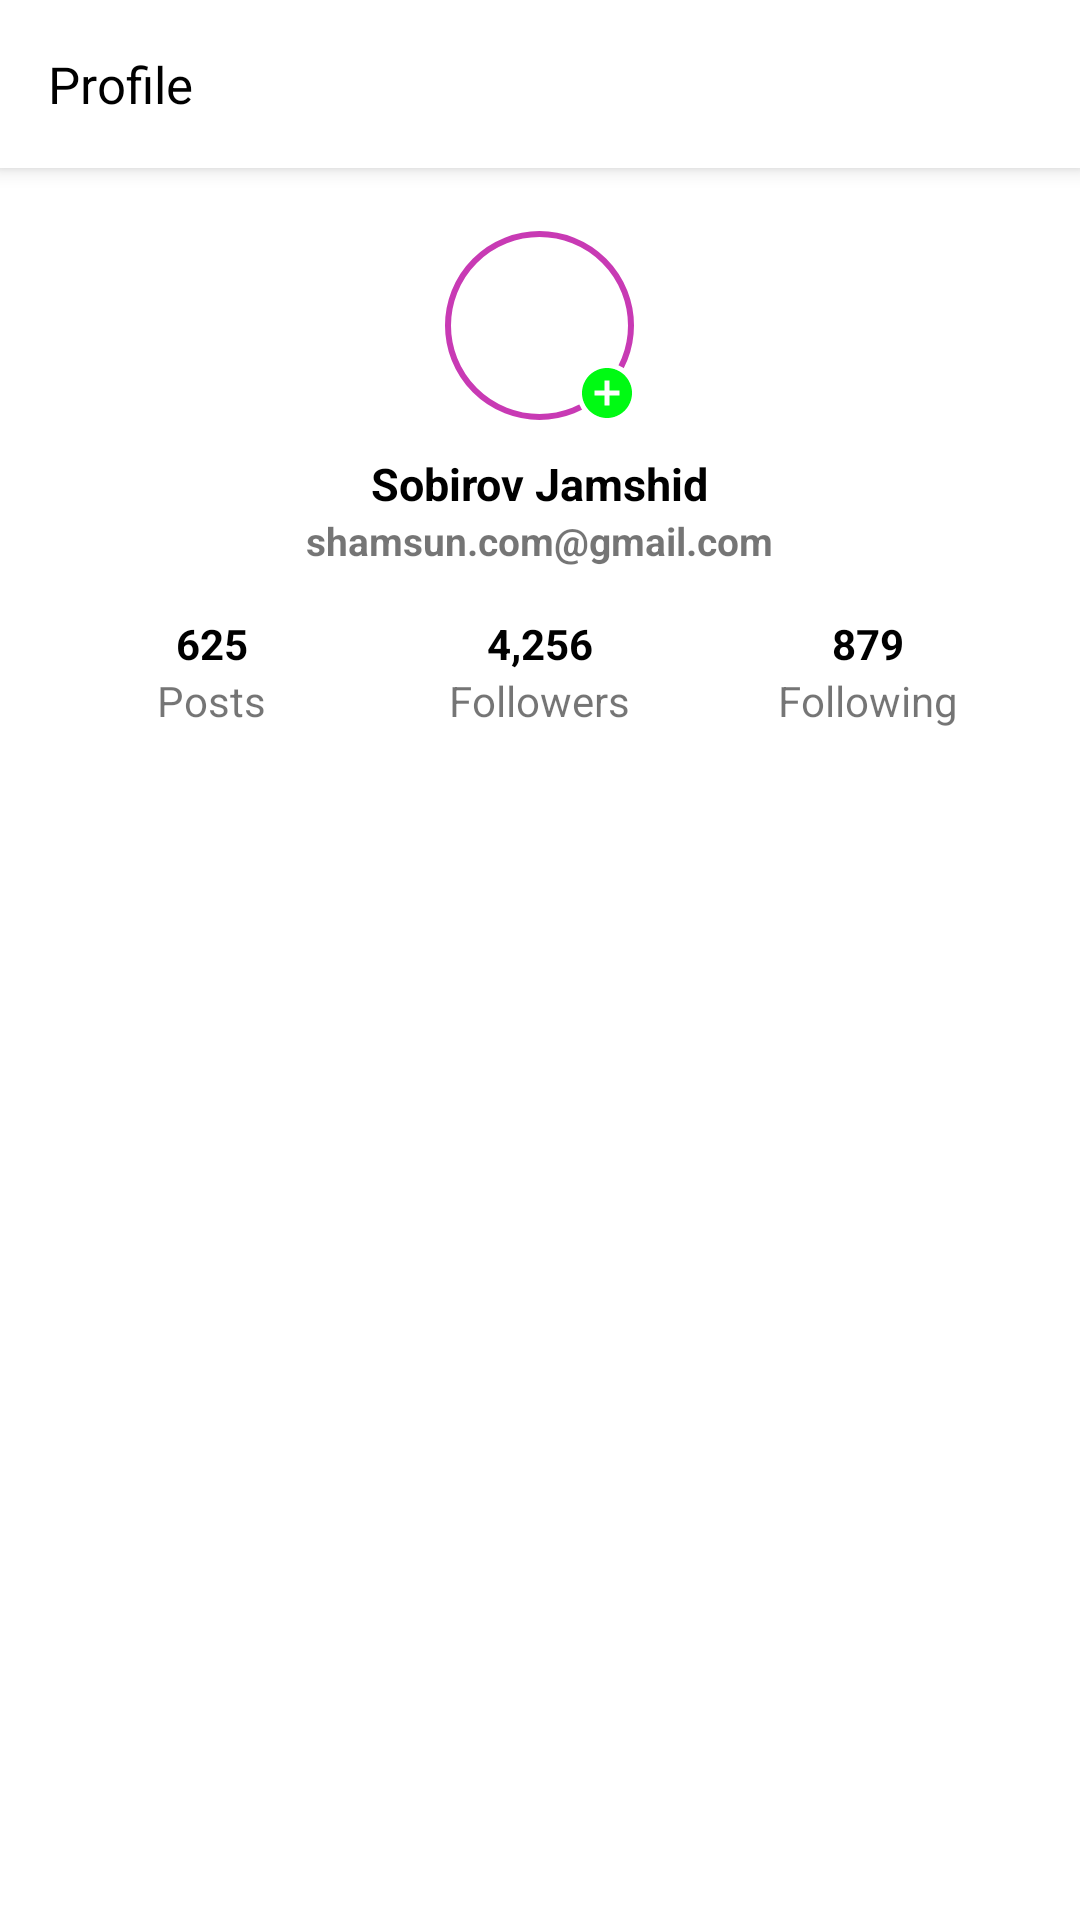

Icons on this 1080 × 1920 Android screen, each with its box as (x1,y1,x2,y2):
add circle: (582,368,632,418)
